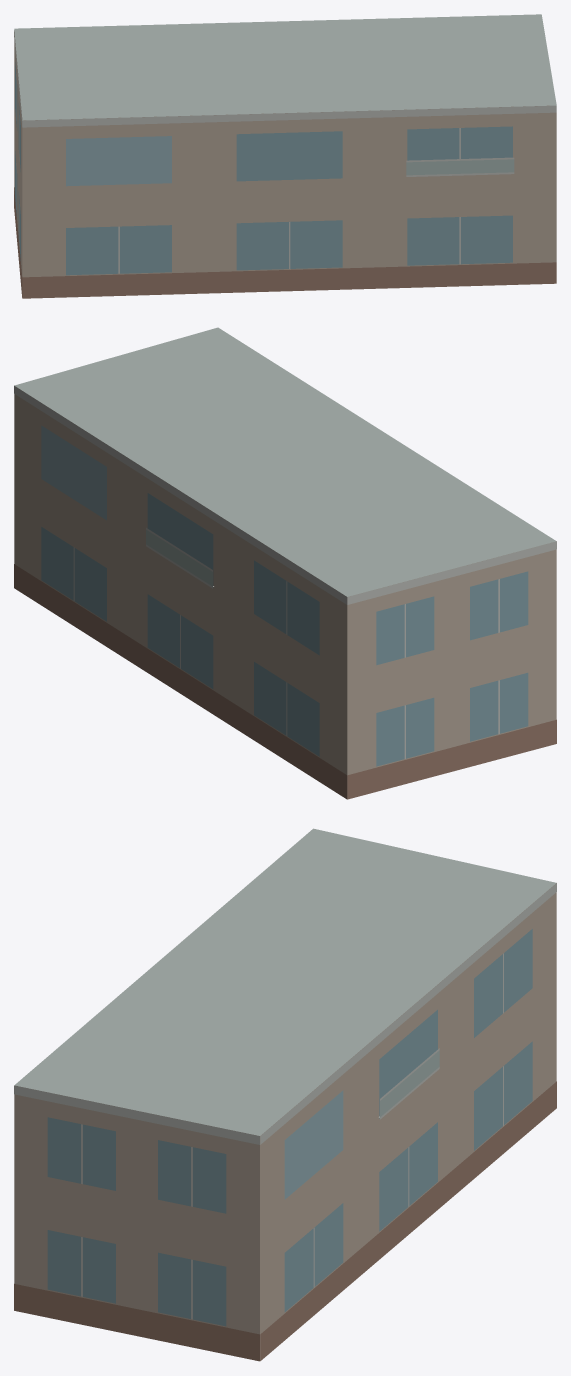
The model's file is survey-upis-32884361.glb.
The picture shows the model from 3 angles, top to bottom: view 1: azimuth 30°, elevation 25°; view 2: azimuth 150°, elevation 25°; view 3: azimuth 270°, elevation 25°; orthographic projection. The views are drawn at different scales.
Visible parts, largest first — view 1: survey-upis-32884361.tmp; view 2: survey-upis-32884361.tmp; view 3: survey-upis-32884361.tmp.
Boxes of the visible parts, box(x1,y1,x2,y2) form: survey-upis-32884361.tmp: box(14, 14, 556, 298); survey-upis-32884361.tmp: box(14, 327, 556, 799); survey-upis-32884361.tmp: box(14, 828, 556, 1361).
Size of the model in its own units: 17.87 by 6.1 by 13.32.
